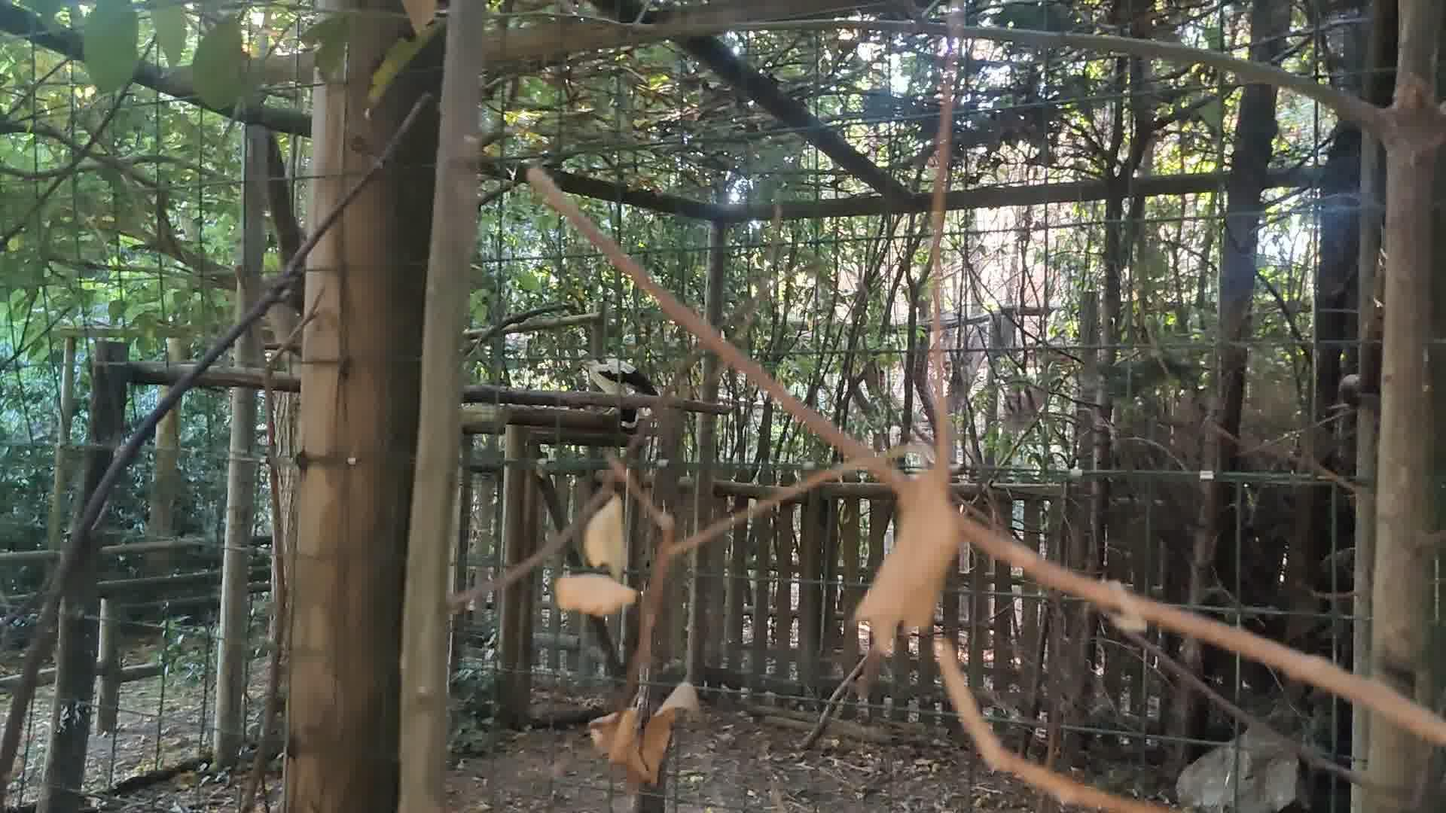apple: (583, 359, 659, 435)
